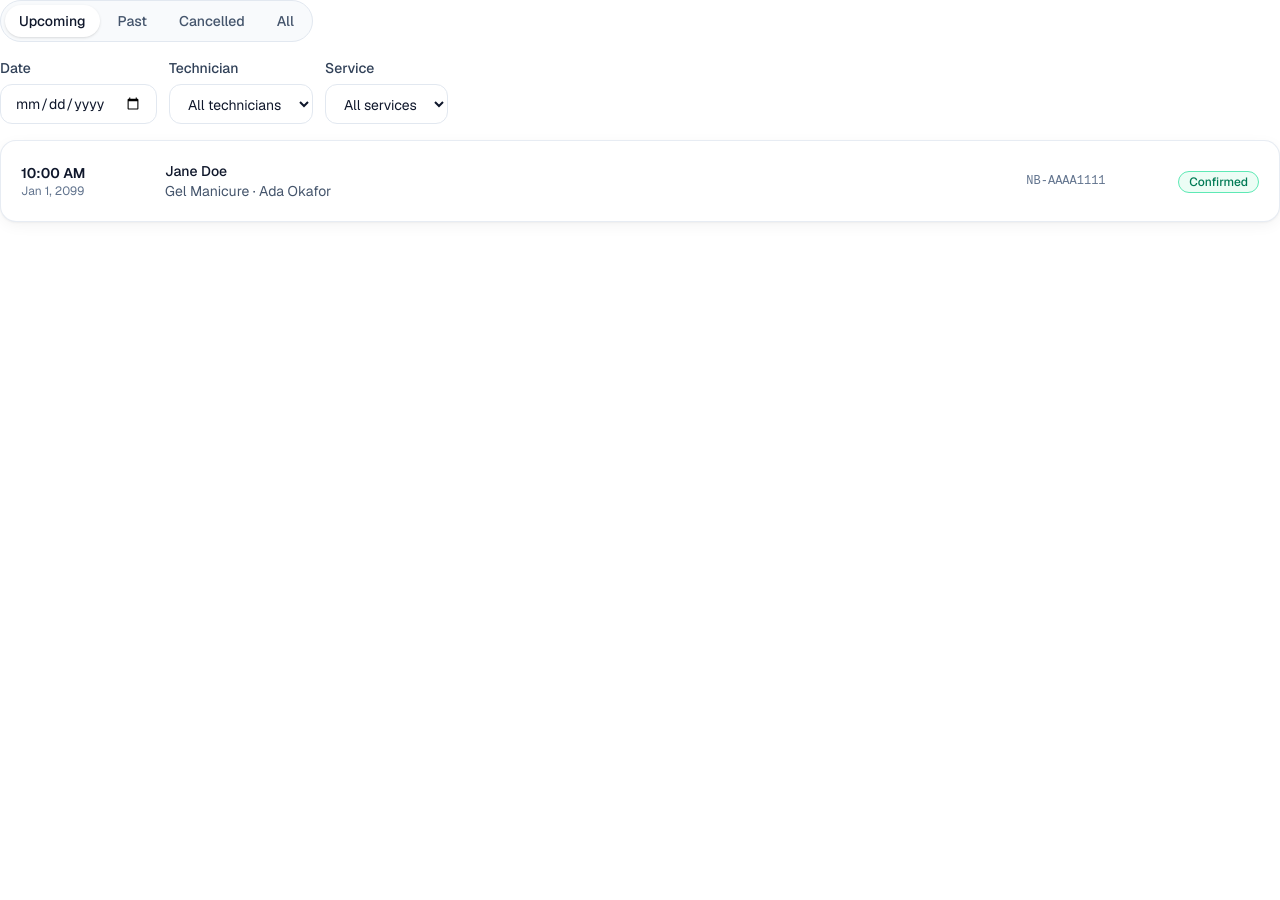
Test: S12-BE lifecycle — reschedule › 409 conflict: keeps the booking unchanged, shows a clear inline error, and lets the user pick another time
Check: the text "Jane Doe" is shown, box x1=165 y1=162 x2=227 y2=180
Click the button with aria-label "view booking details for jane doe": coordinates (53, 173) x1=21 y1=161 x2=1154 y2=201
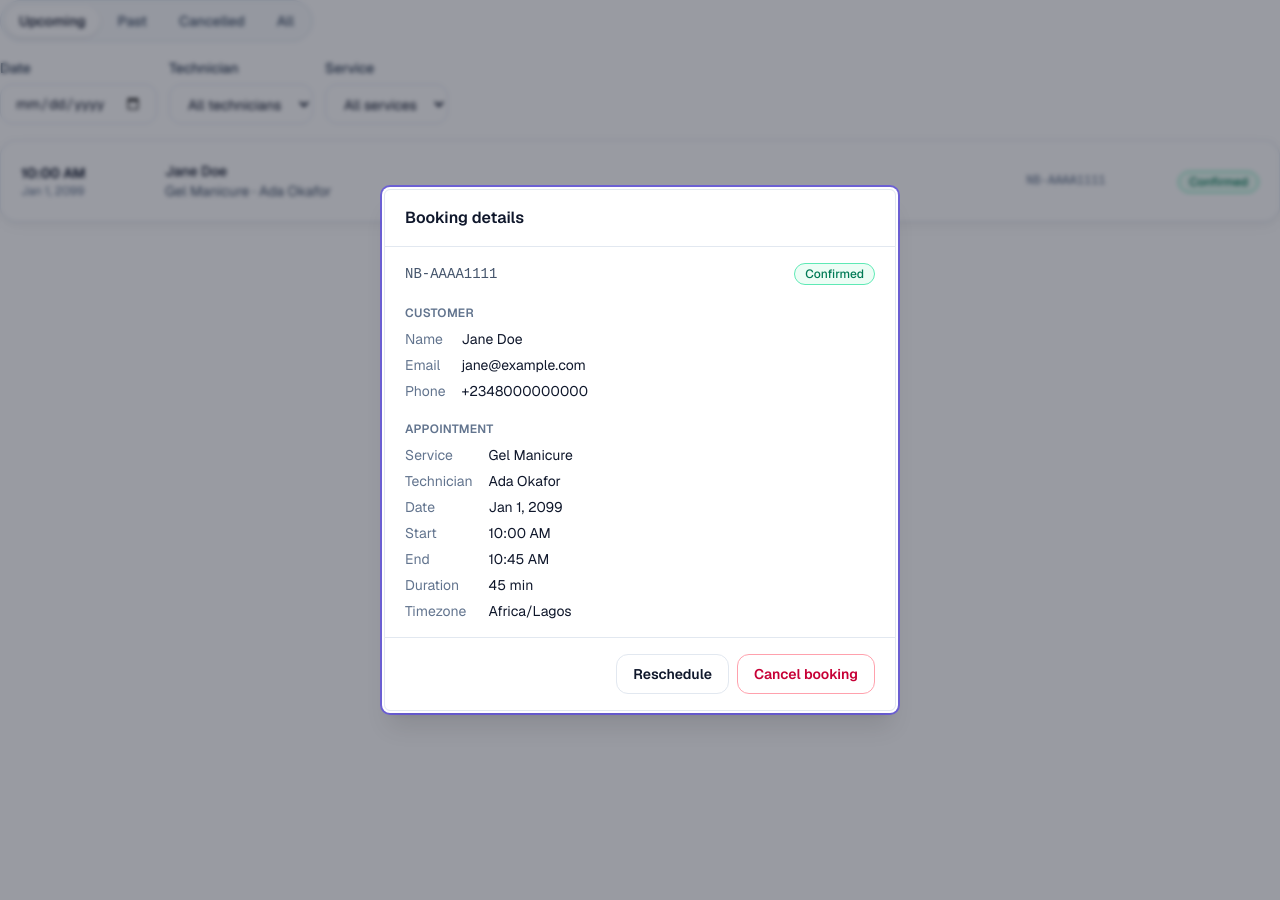
Click the button "Reschedule": coordinates (673, 674) x1=616 y1=654 x2=729 y2=694
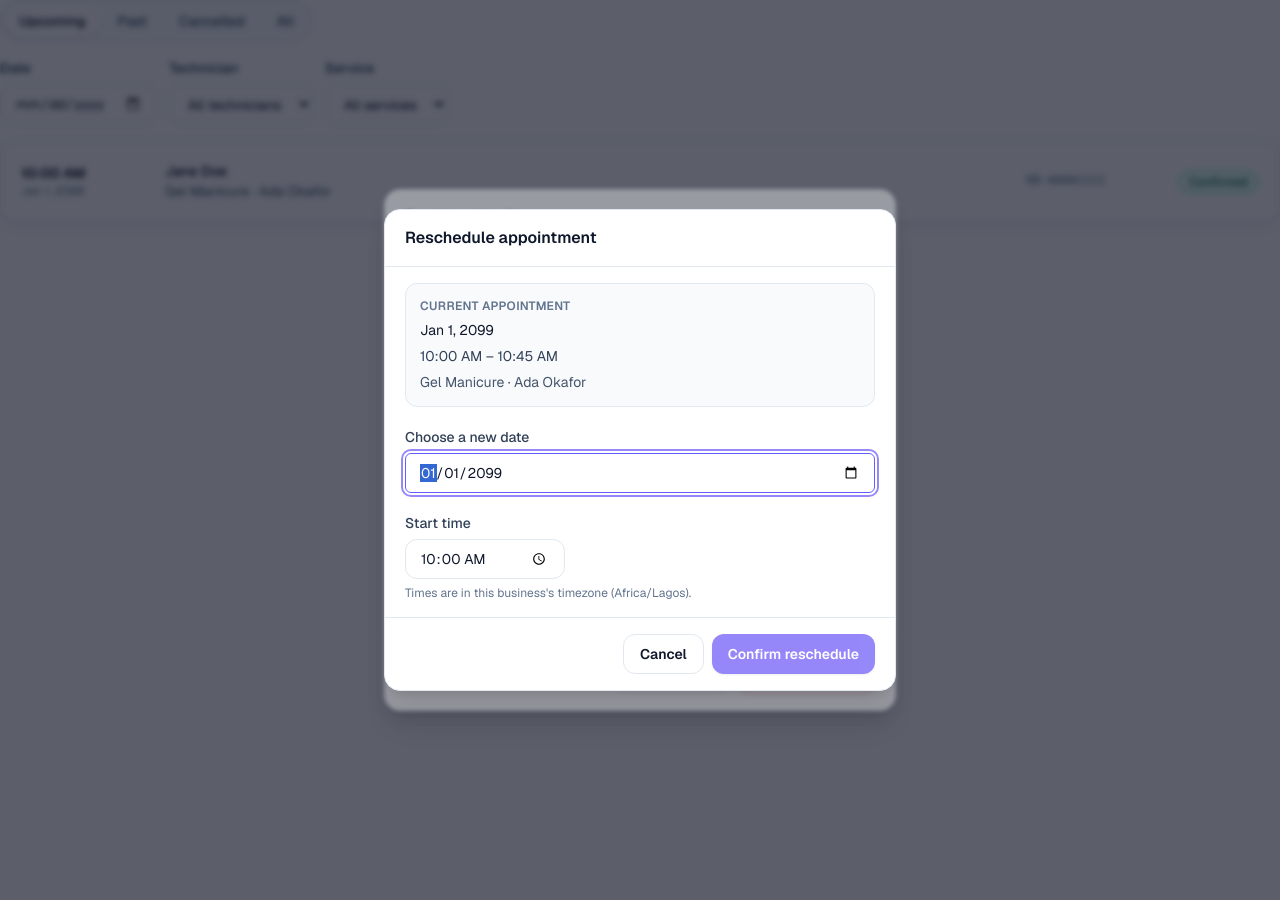
In the date field labelled "Choose a new date": coordinates (640, 473) x1=405 y1=453 x2=875 y2=493, type "2099-02-01"
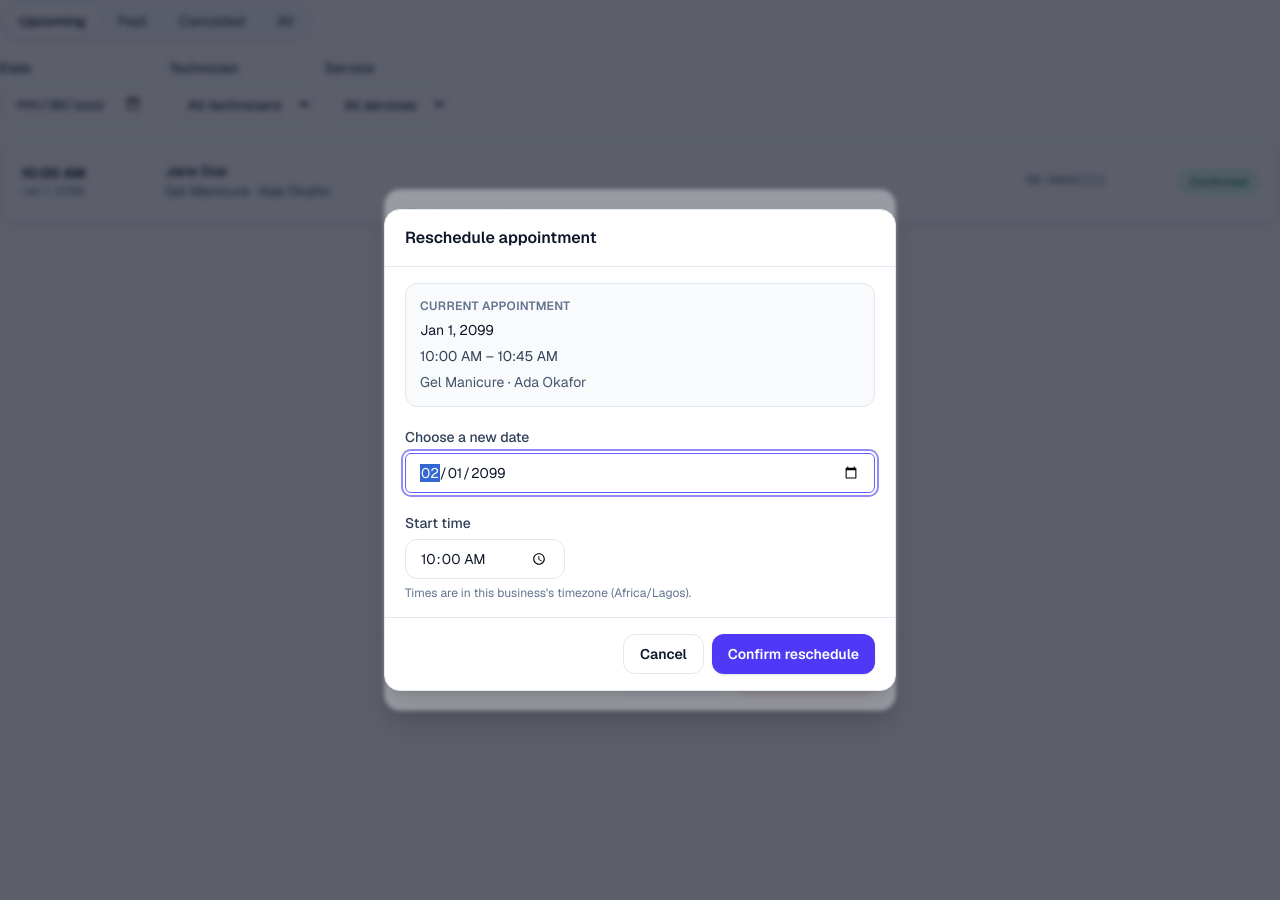
Click the button "Confirm reschedule": coordinates (793, 654) x1=712 y1=634 x2=875 y2=674
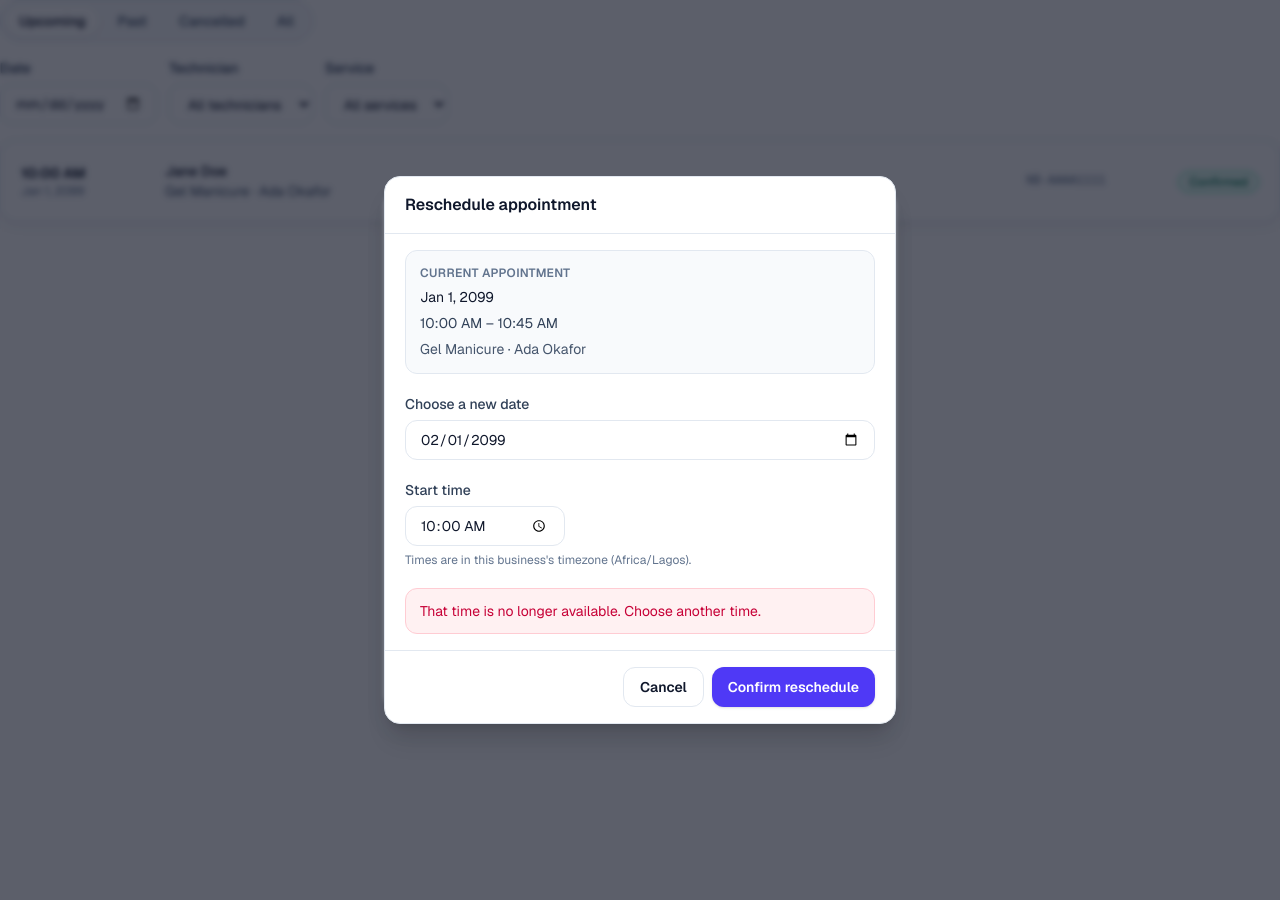
Check: the message shows "no longer available", box x1=420 y1=602 x2=761 y2=620
Note: The dialog is still open and usable — pick another time and it succeeds.
In the date field labelled "Choose a new date": coordinates (640, 440) x1=405 y1=420 x2=875 y2=460, type "2099-03-01"
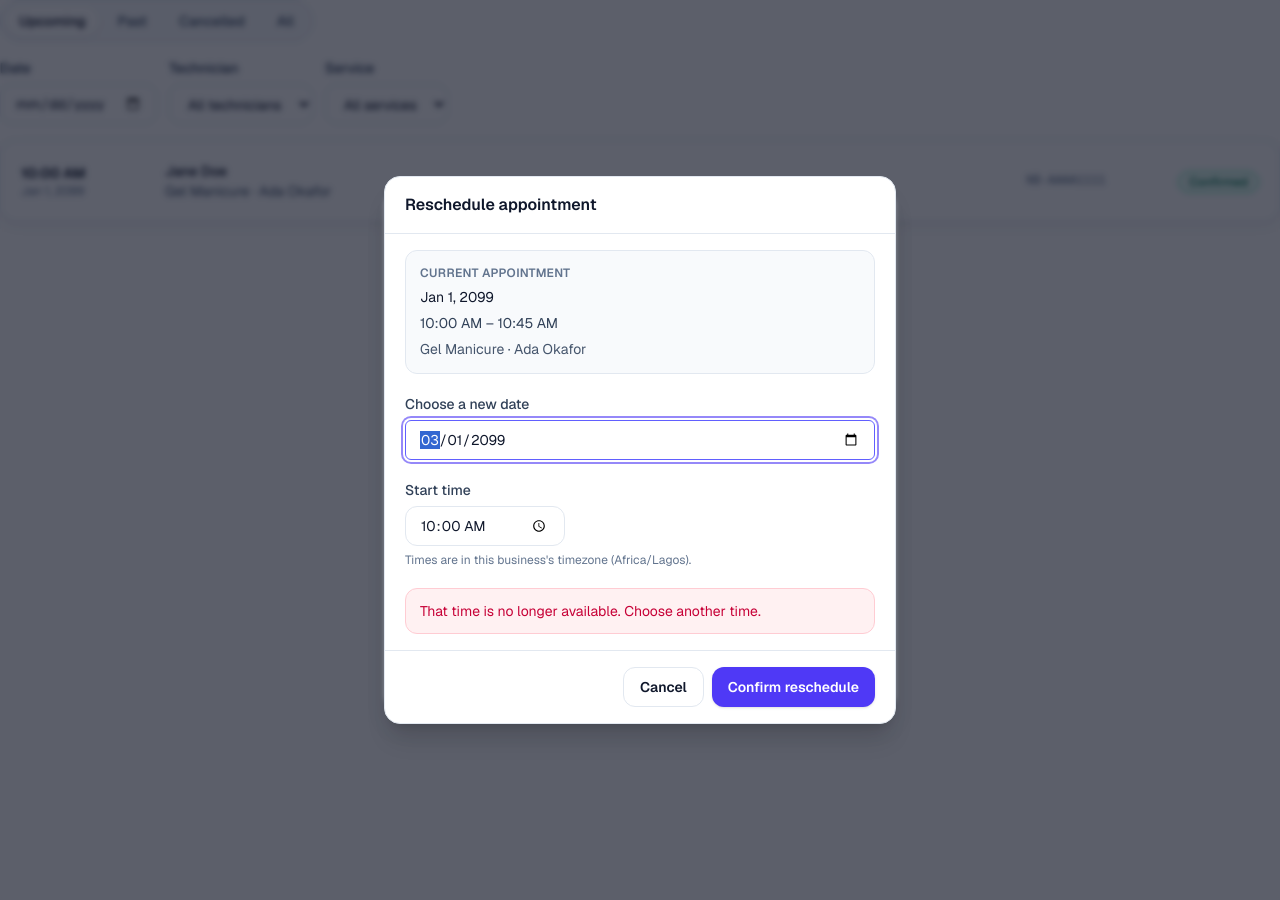
Click the button "Confirm reschedule": coordinates (793, 687) x1=712 y1=667 x2=875 y2=707
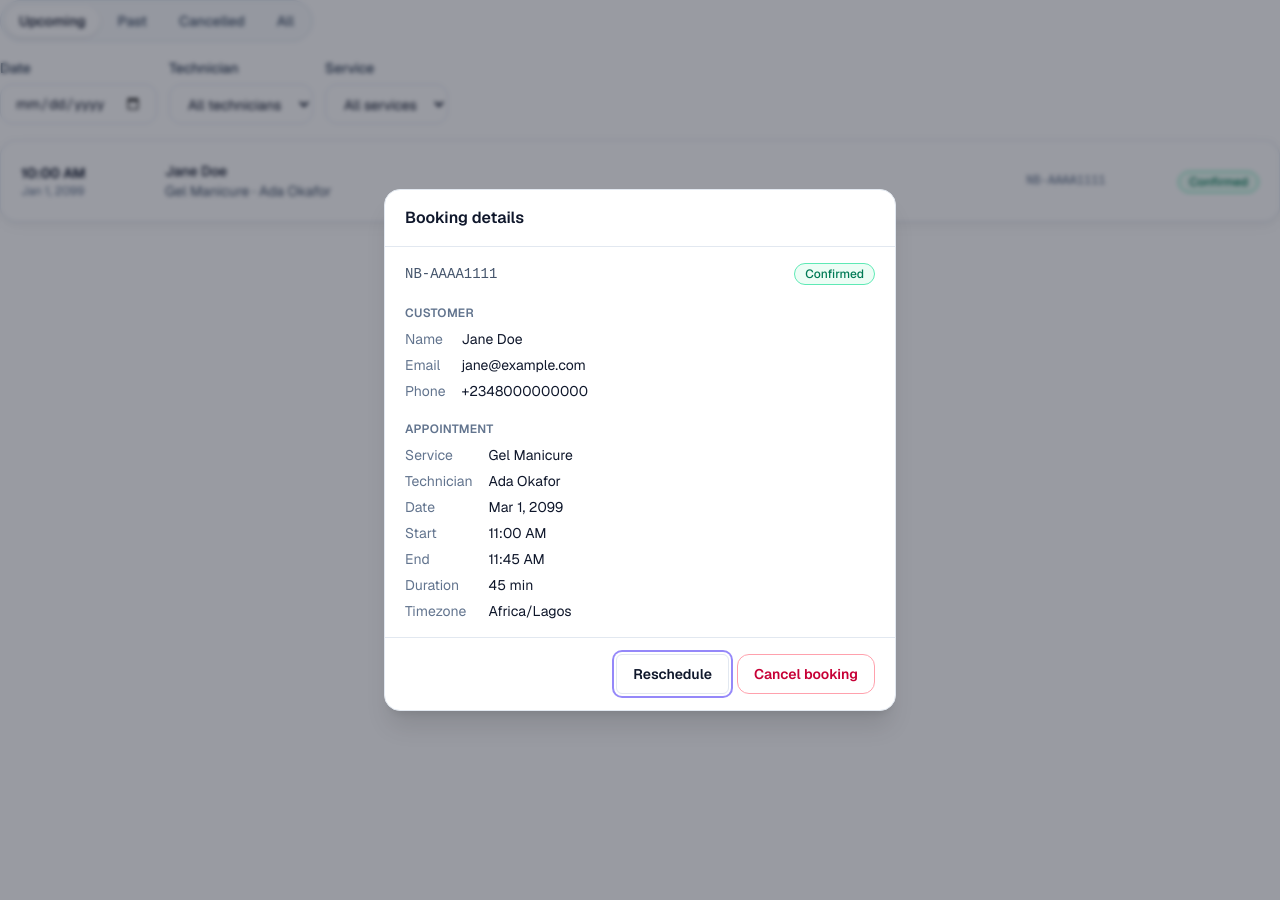
Check: the heading "Reschedule appointment" is gone
